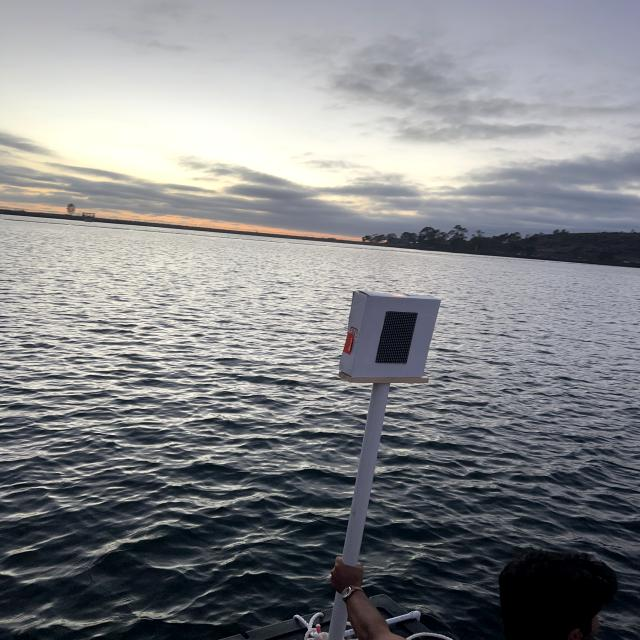led: (369, 295, 421, 378)
